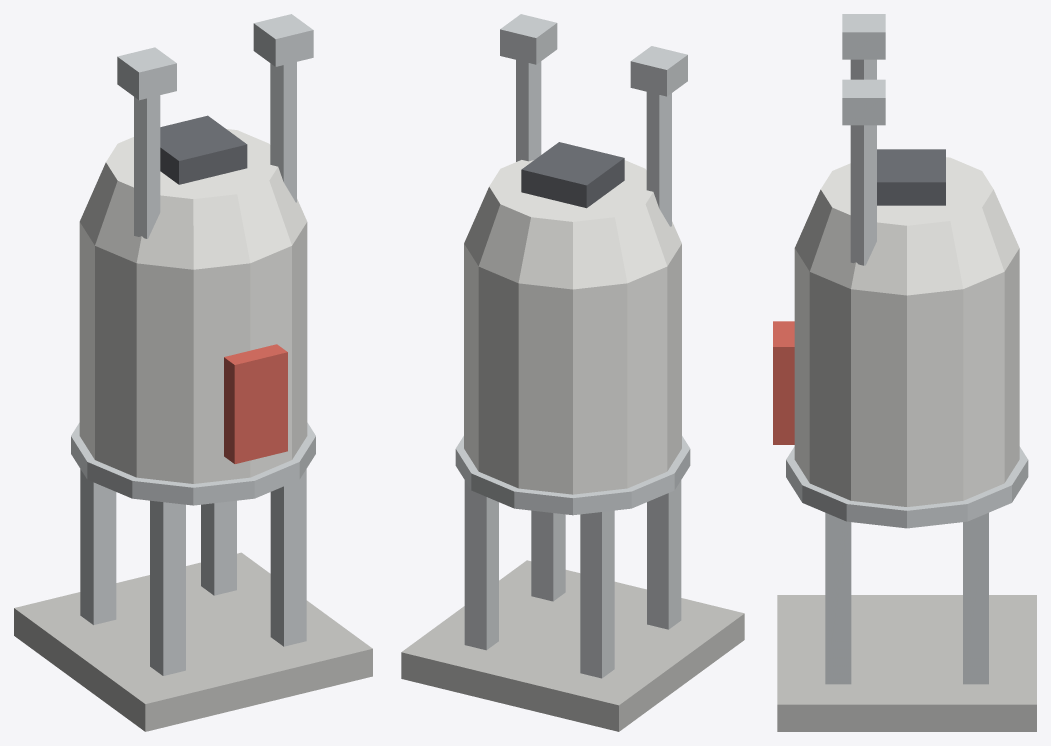
The model's file is radio-telescope-array-and-field-station-cryogenic-rece-74902f3b__37629.glb.
3 views of the same model, side by side, from view 1: azimuth 30°, elevation 25°; view 2: azimuth 150°, elevation 25°; view 3: azimuth 270°, elevation 25° (orthographic). The views are drawn at different scales.
Parts seen in each view (by area): view 1: cryogenic-receiver-dewar; view 2: cryogenic-receiver-dewar; view 3: cryogenic-receiver-dewar.
Part boxes in pixels (x1,y1,x2,y2): cryogenic-receiver-dewar: (14, 14, 372, 731); cryogenic-receiver-dewar: (401, 14, 744, 731); cryogenic-receiver-dewar: (773, 14, 1036, 731).
Bounding box in the file's own units: 1.2 × 3.17 × 1.22.
